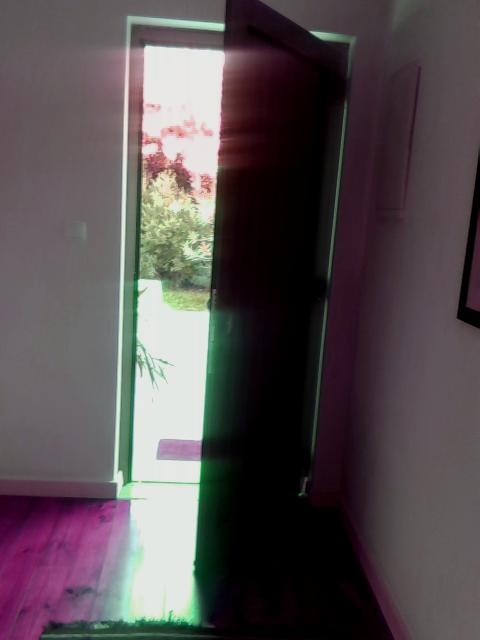semi_door: (129, 3, 358, 573)
